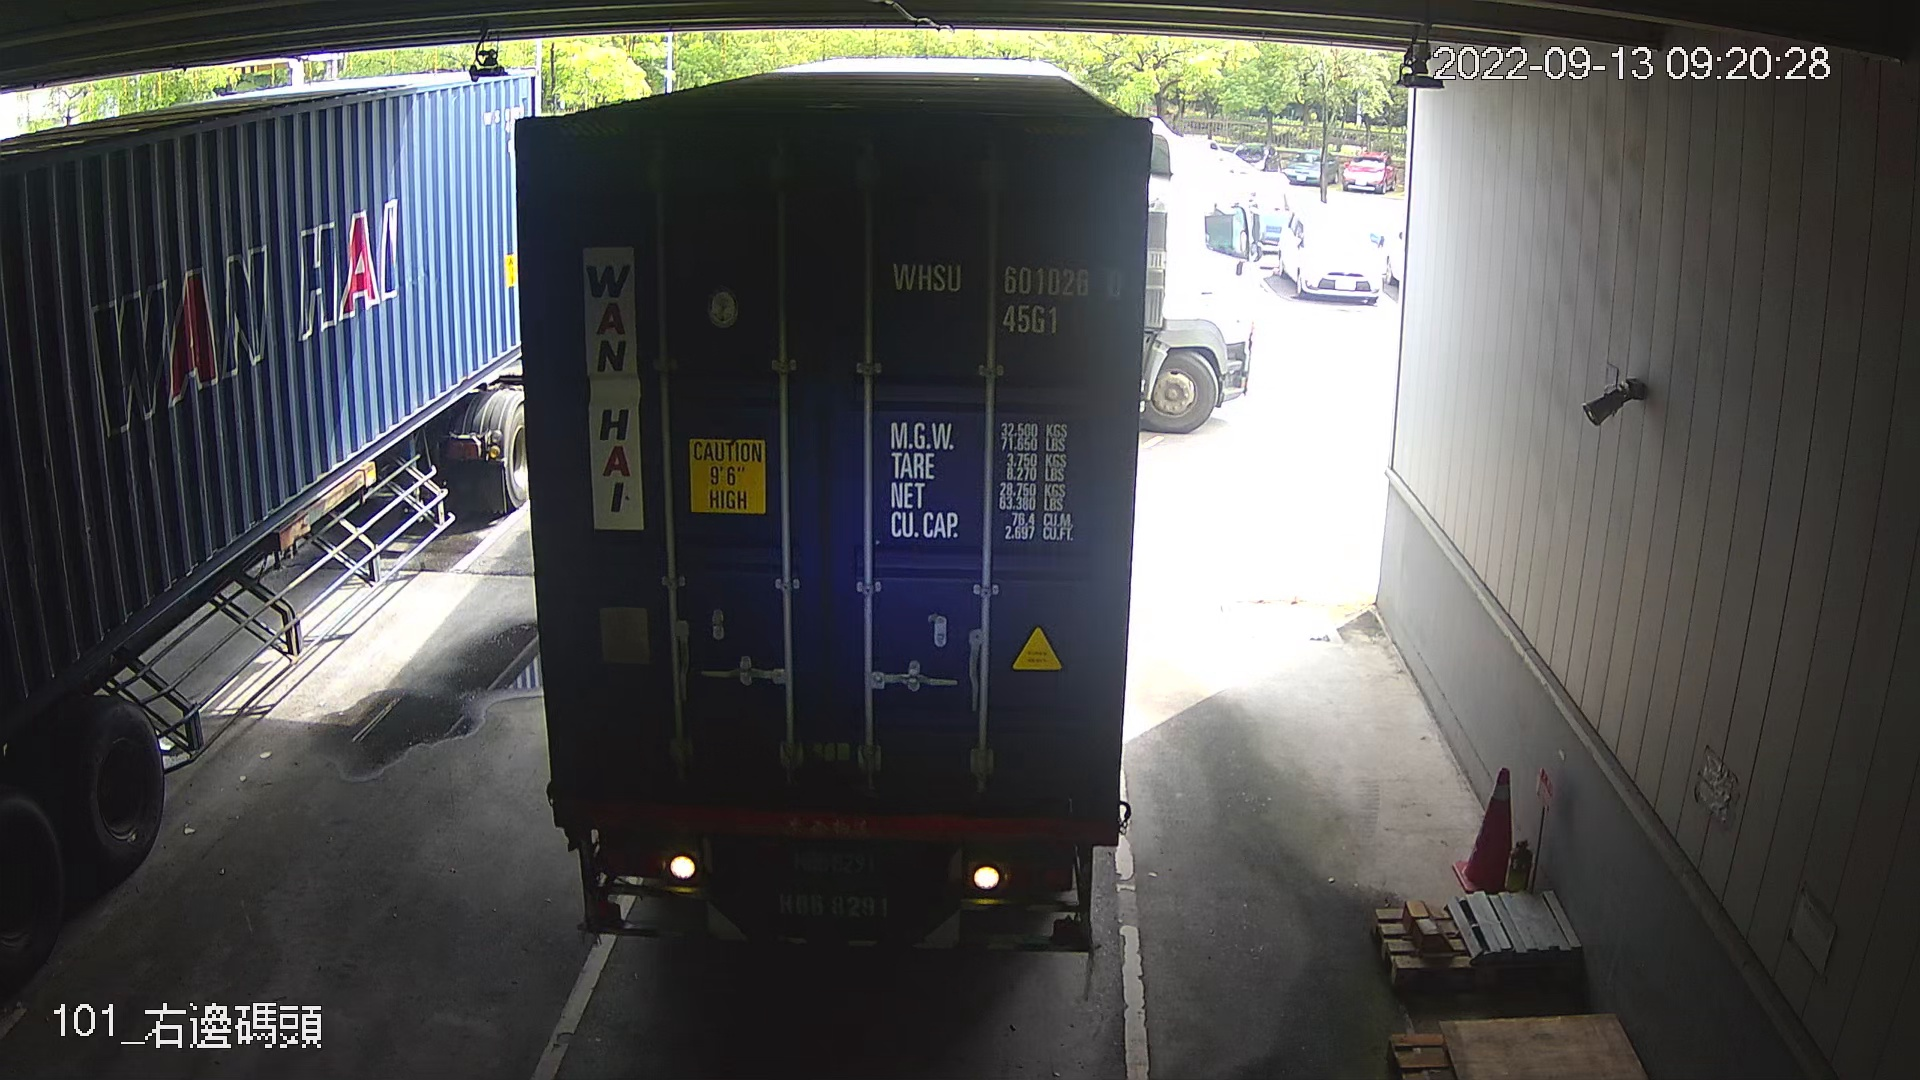container: (882, 255, 1134, 348)
